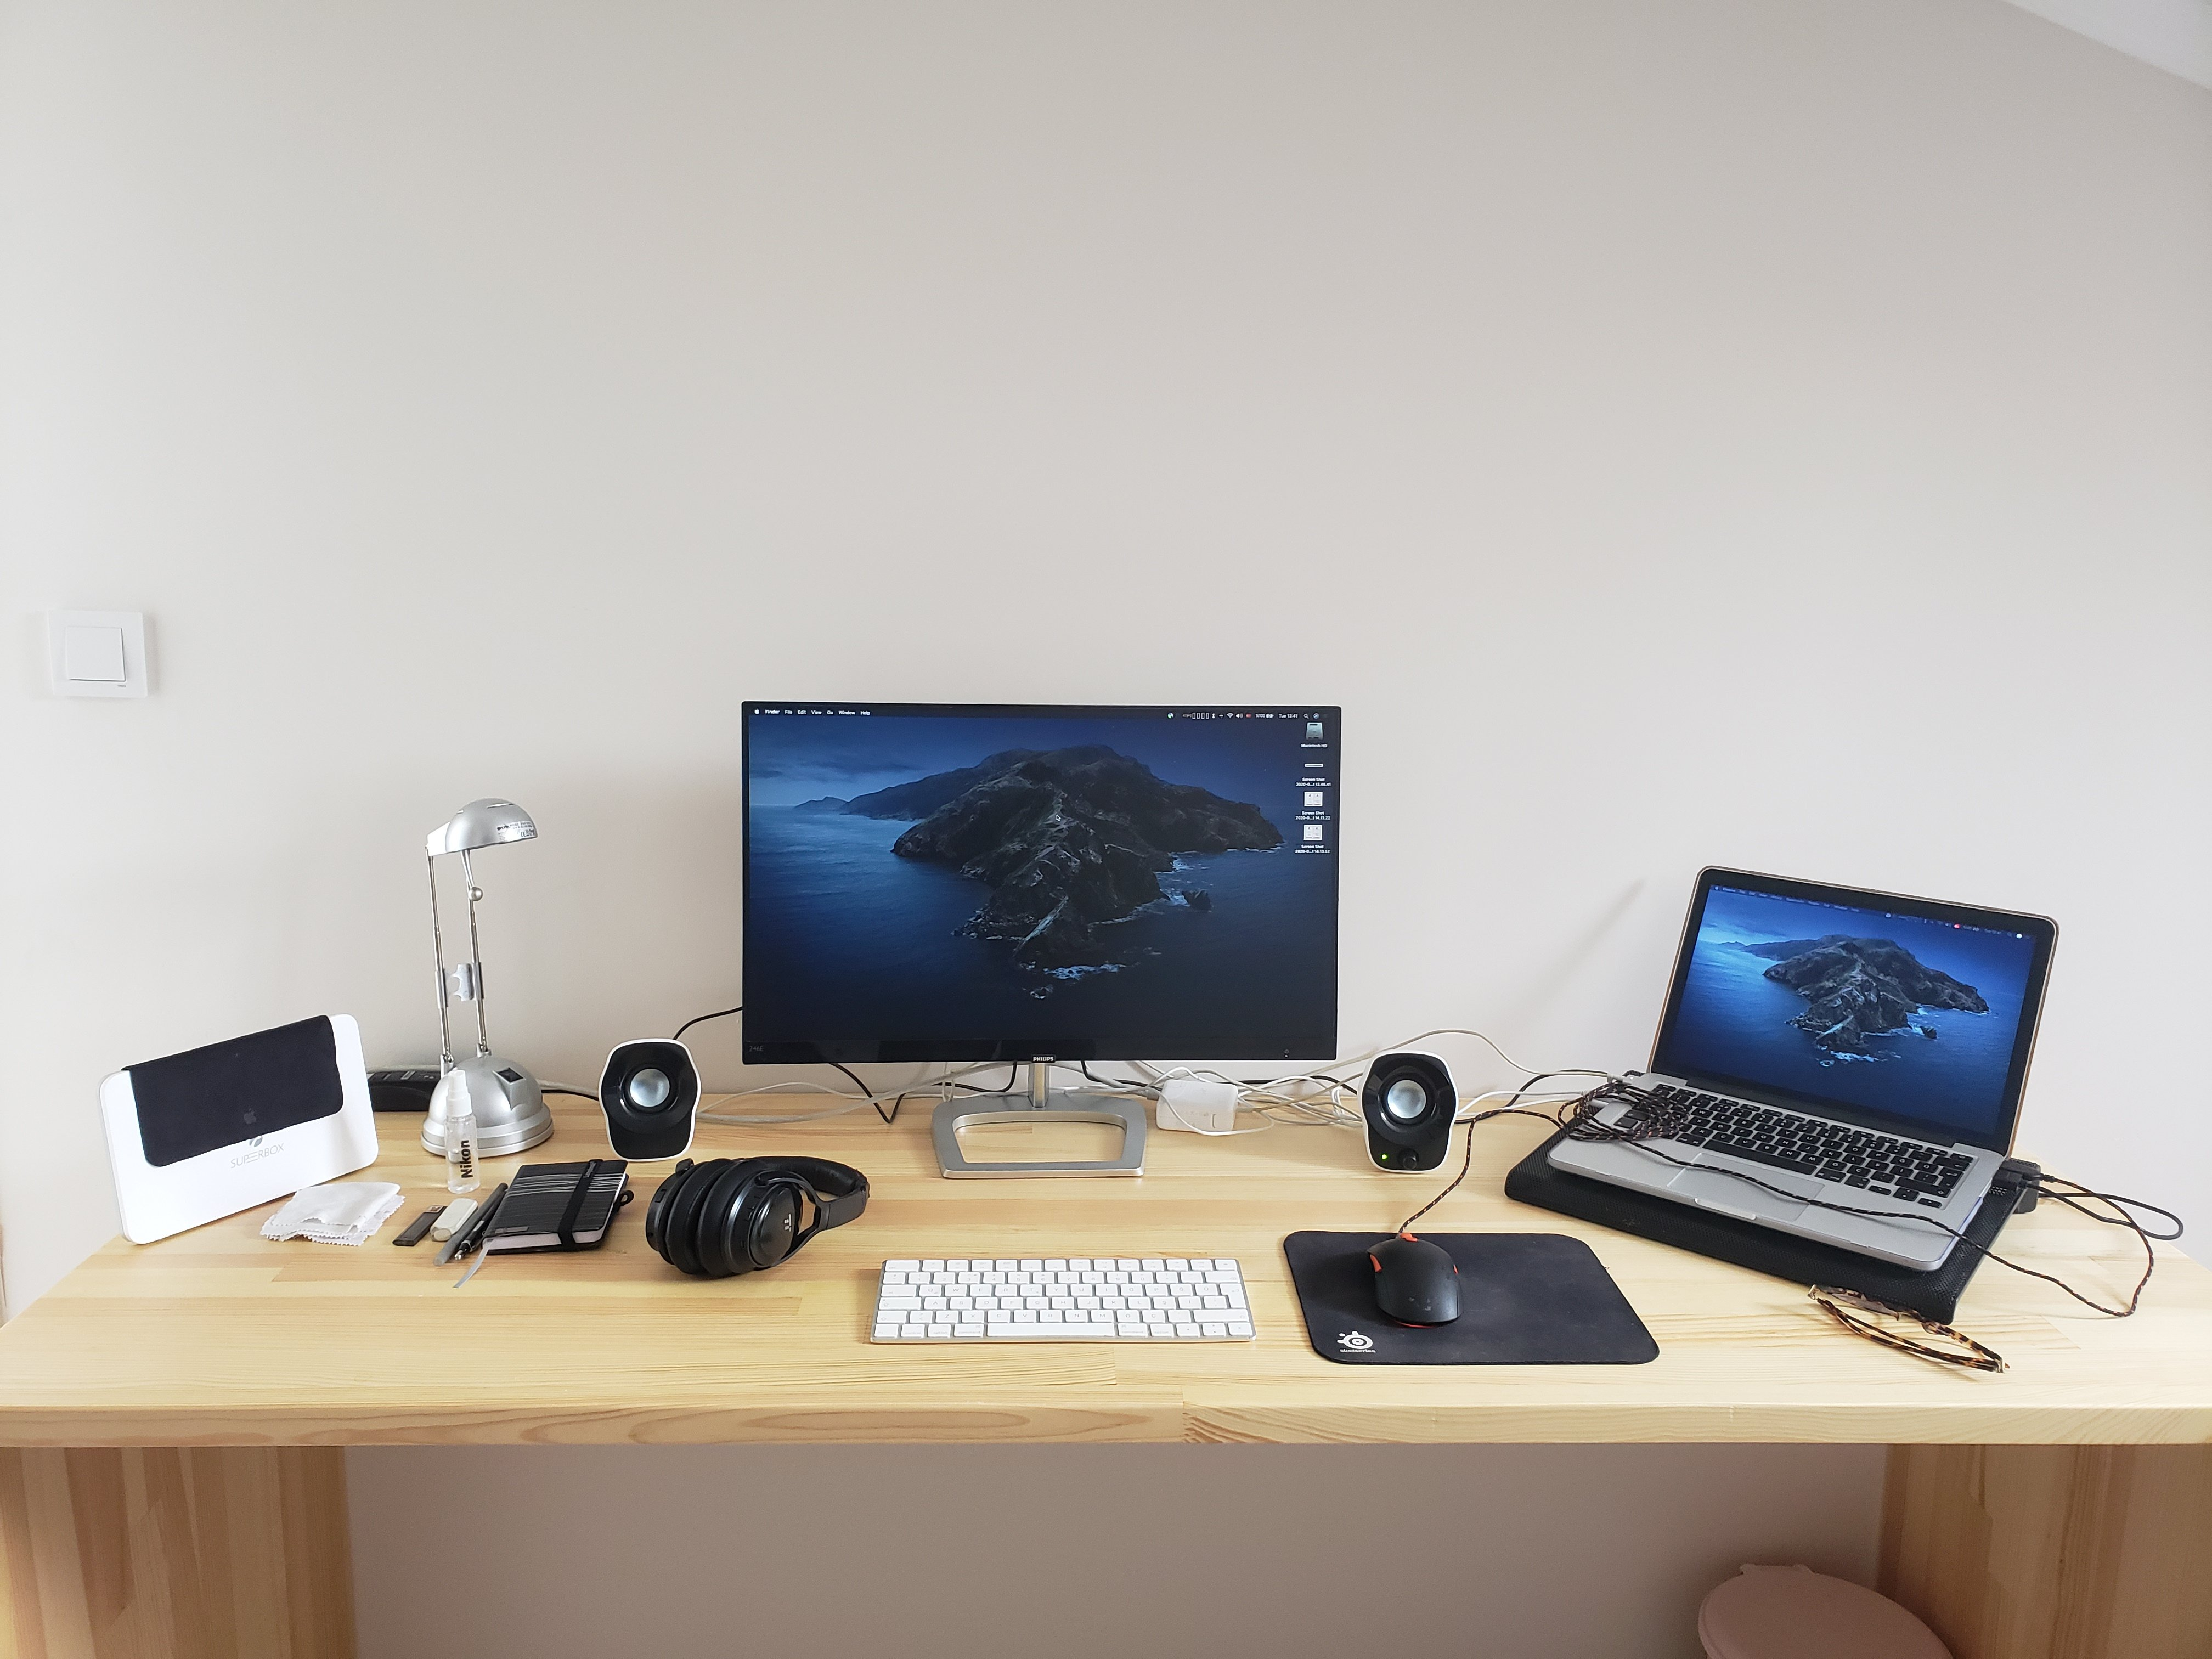Desk (Generic): (0, 1087, 2212, 1659)
External Speakers (Generic): (582, 1023, 714, 1173), (1353, 1042, 1460, 1180)
Headphones: (641, 1152, 876, 1290)
Keyboard (Generic): (867, 1248, 1259, 1349)
Lamp (Desk): (413, 784, 564, 1169)
Laptop (OSX): (1548, 852, 2057, 1286)
Laptop Stand: (1500, 1082, 2057, 1340)
Monitor (Landscape): (733, 697, 1348, 1180)
Mouse (Ergonomic): (1367, 1223, 1465, 1337)
Mousepad (Generic): (1278, 1222, 1665, 1370)
Notebook: (477, 1147, 627, 1274)
Trash Can: (1693, 1551, 1954, 1659)
